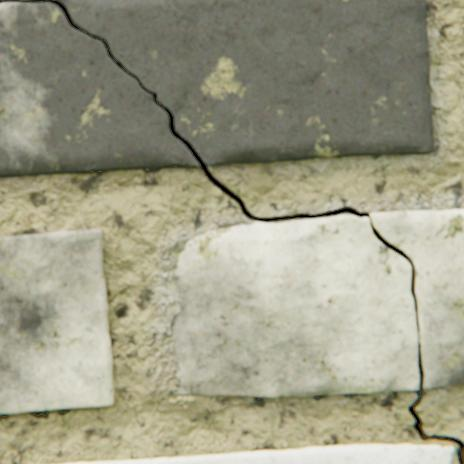brick: (0, 229, 113, 412), (50, 442, 452, 463)
broken_brick: (59, 0, 432, 165), (173, 215, 417, 396), (0, 3, 199, 177), (369, 209, 463, 388)
crack: (0, 0, 463, 463)
